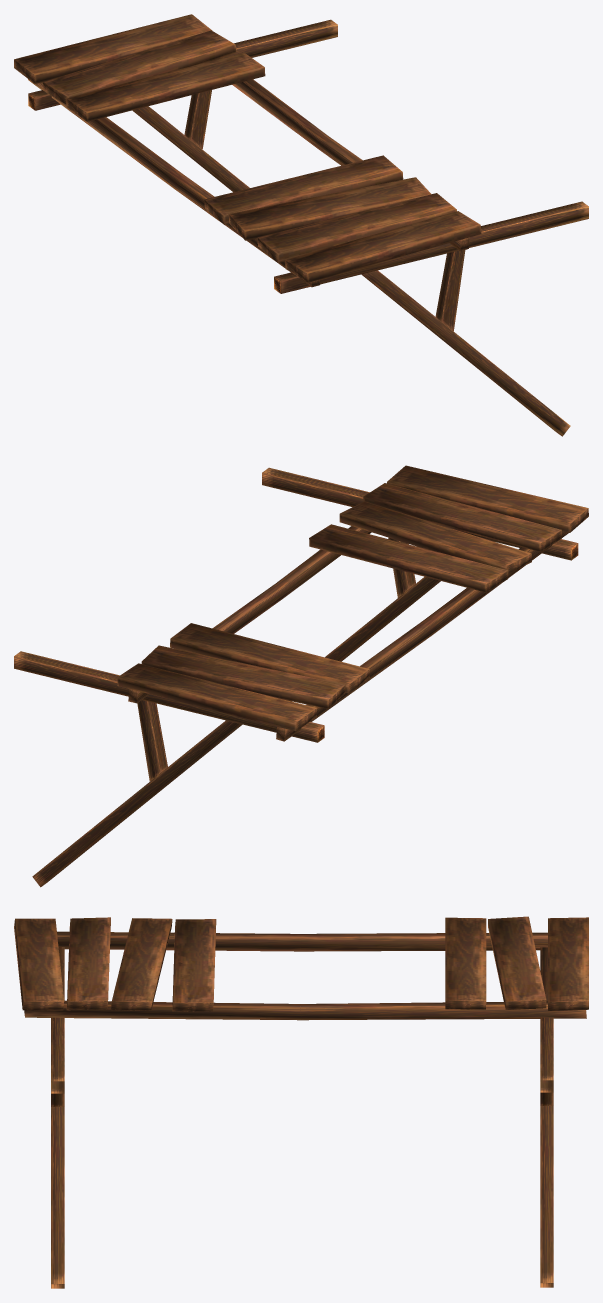
The model's file is INST_SWORDLIGHT_WALLPLAT-BREAK.fbx.
The picture shows the model from 3 angles, top to bottom: view 1: azimuth 30°, elevation 25°; view 2: azimuth 150°, elevation 25°; view 3: azimuth 270°, elevation 25°; orthographic projection. The views are drawn at different scales.
Visible parts, largest first — view 1: INST_SWORDLIGHT_WALLPLAT-BREAK; view 2: INST_SWORDLIGHT_WALLPLAT-BREAK; view 3: INST_SWORDLIGHT_WALLPLAT-BREAK.
Boxes of the visible parts, bbox=[...] form: INST_SWORDLIGHT_WALLPLAT-BREAK: bbox=[14, 14, 588, 436]; INST_SWORDLIGHT_WALLPLAT-BREAK: bbox=[14, 465, 588, 887]; INST_SWORDLIGHT_WALLPLAT-BREAK: bbox=[14, 916, 588, 1288].
Size of the model in its own units: 31131 by 23771 by 51258.
2 materials, 2 textured.
